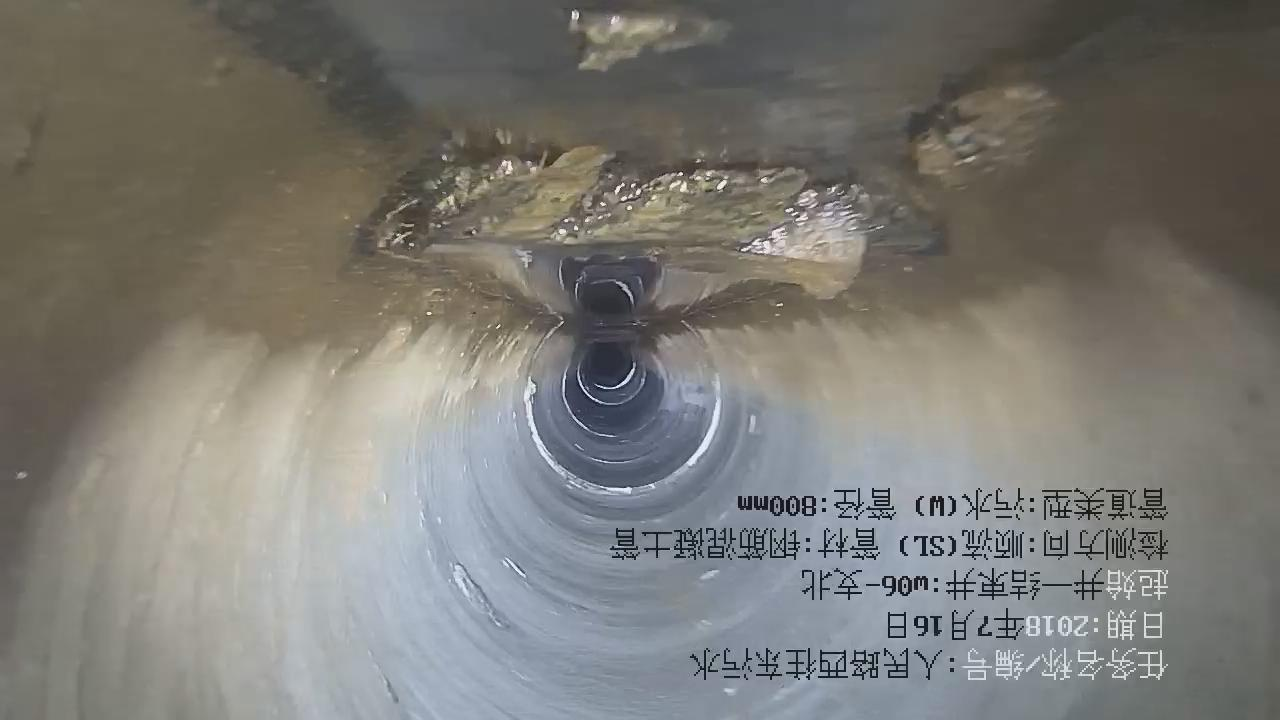ZAW: (362, 83, 1056, 298)
